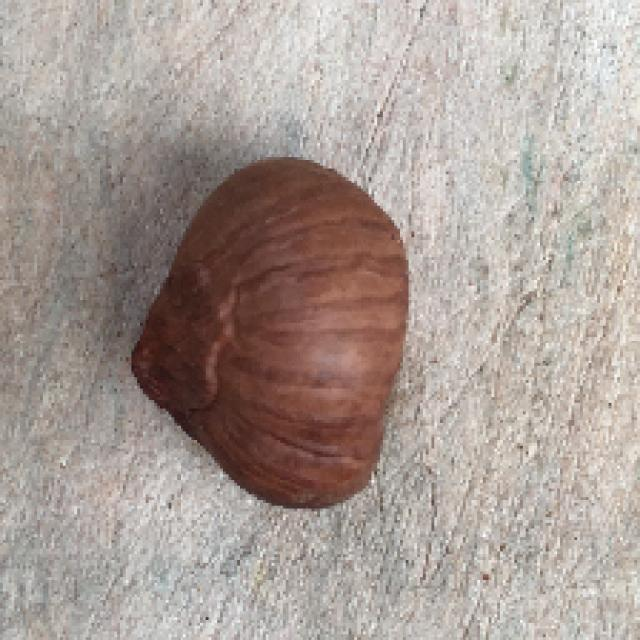hazelnut: (122, 147, 422, 508)
